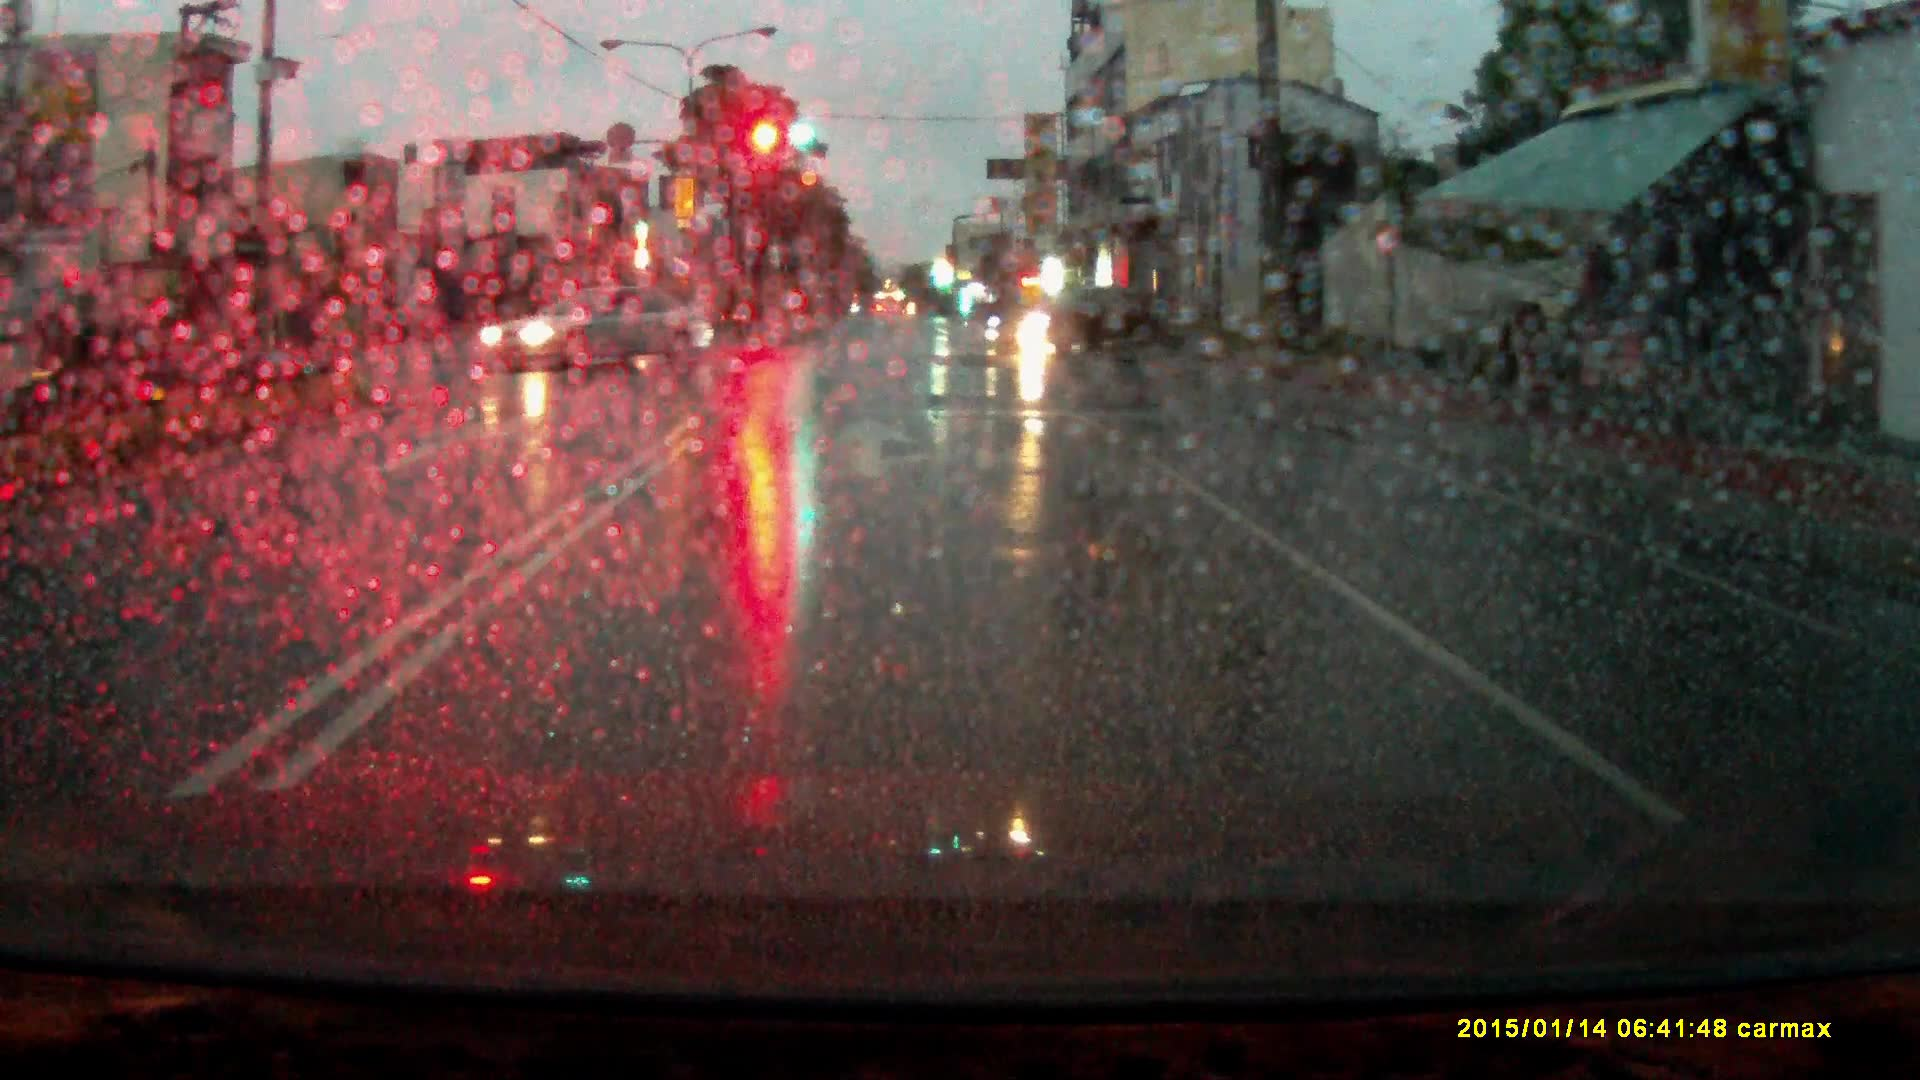vehicle: (481, 287, 717, 377), (988, 291, 1174, 360)
